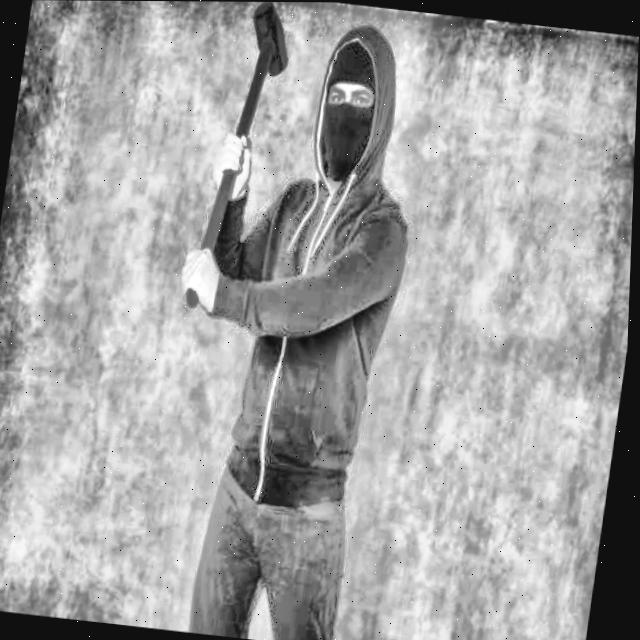robbery: (123, 1, 454, 640)
